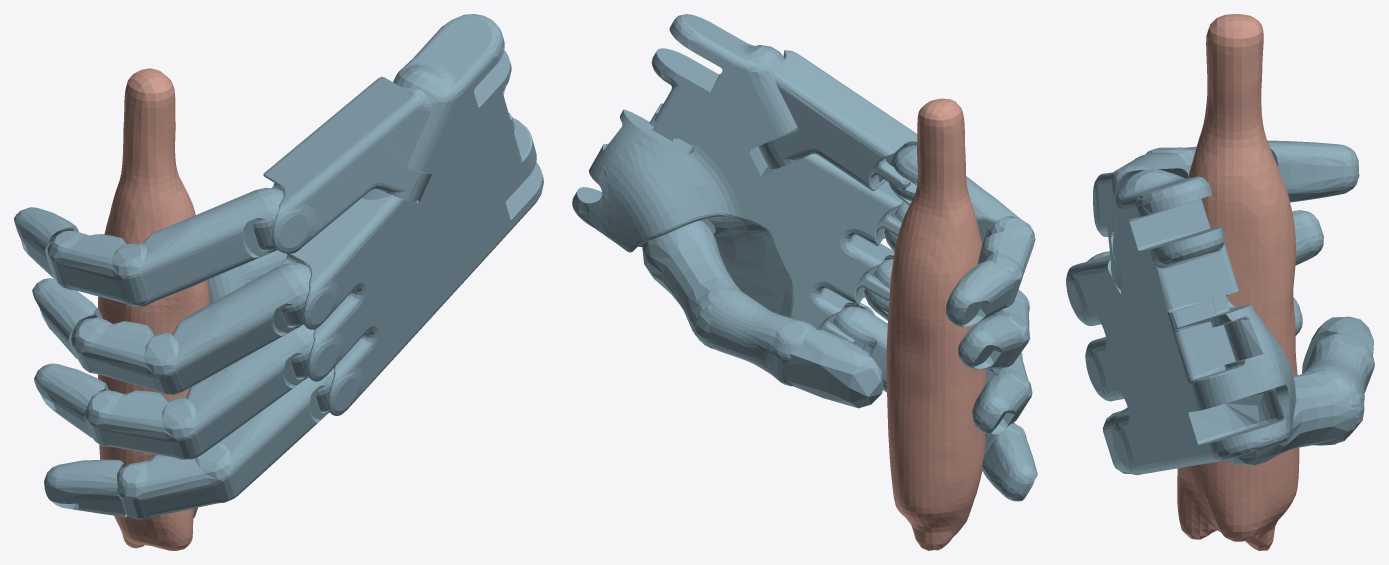
The model's file is 1_joint.glb.
3 renders of one model, left to right at view 1: azimuth 30°, elevation 25°; view 2: azimuth 150°, elevation 25°; view 3: azimuth 270°, elevation 25°, orthographic. The views are drawn at different scales.
Parts seen in each view (by area): view 1: world; view 2: world; view 3: world.
Part boxes in pixels (box(x1,y1,x2,y2)): world: box(14, 14, 543, 550); world: box(572, 14, 1037, 550); world: box(1066, 14, 1374, 550).
Size of the model in its own units: 1.18 by 1.09 by 0.5751.
